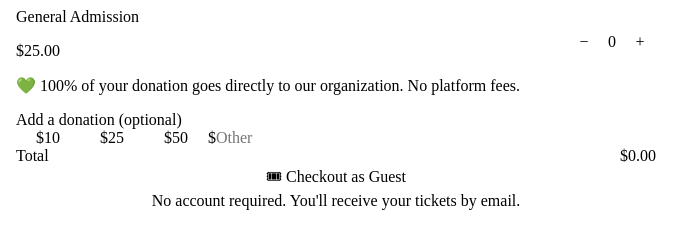
it: TicketSelector › quantity controls › increments quantity when + is clicked
Check: the text with class "ts-qty-value" reads "0", box [608,33,616,50]
Click the button named "Increase quantity" at (640, 42), box [624,26,656,58]
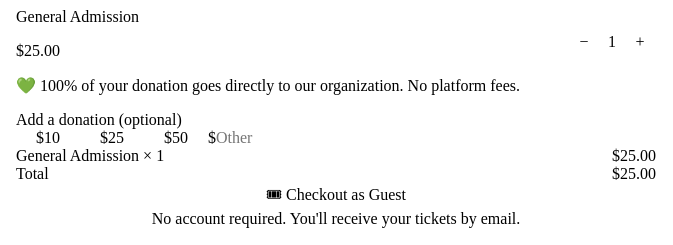
Check: the text with class "ts-qty-value" reads "1", box [608,33,616,50]
